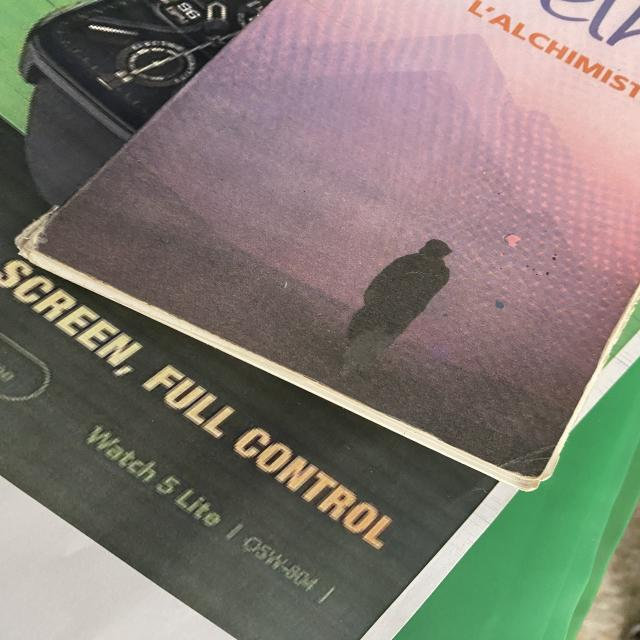Watch 5 Lite OSW-804: (70, 413, 349, 624)
